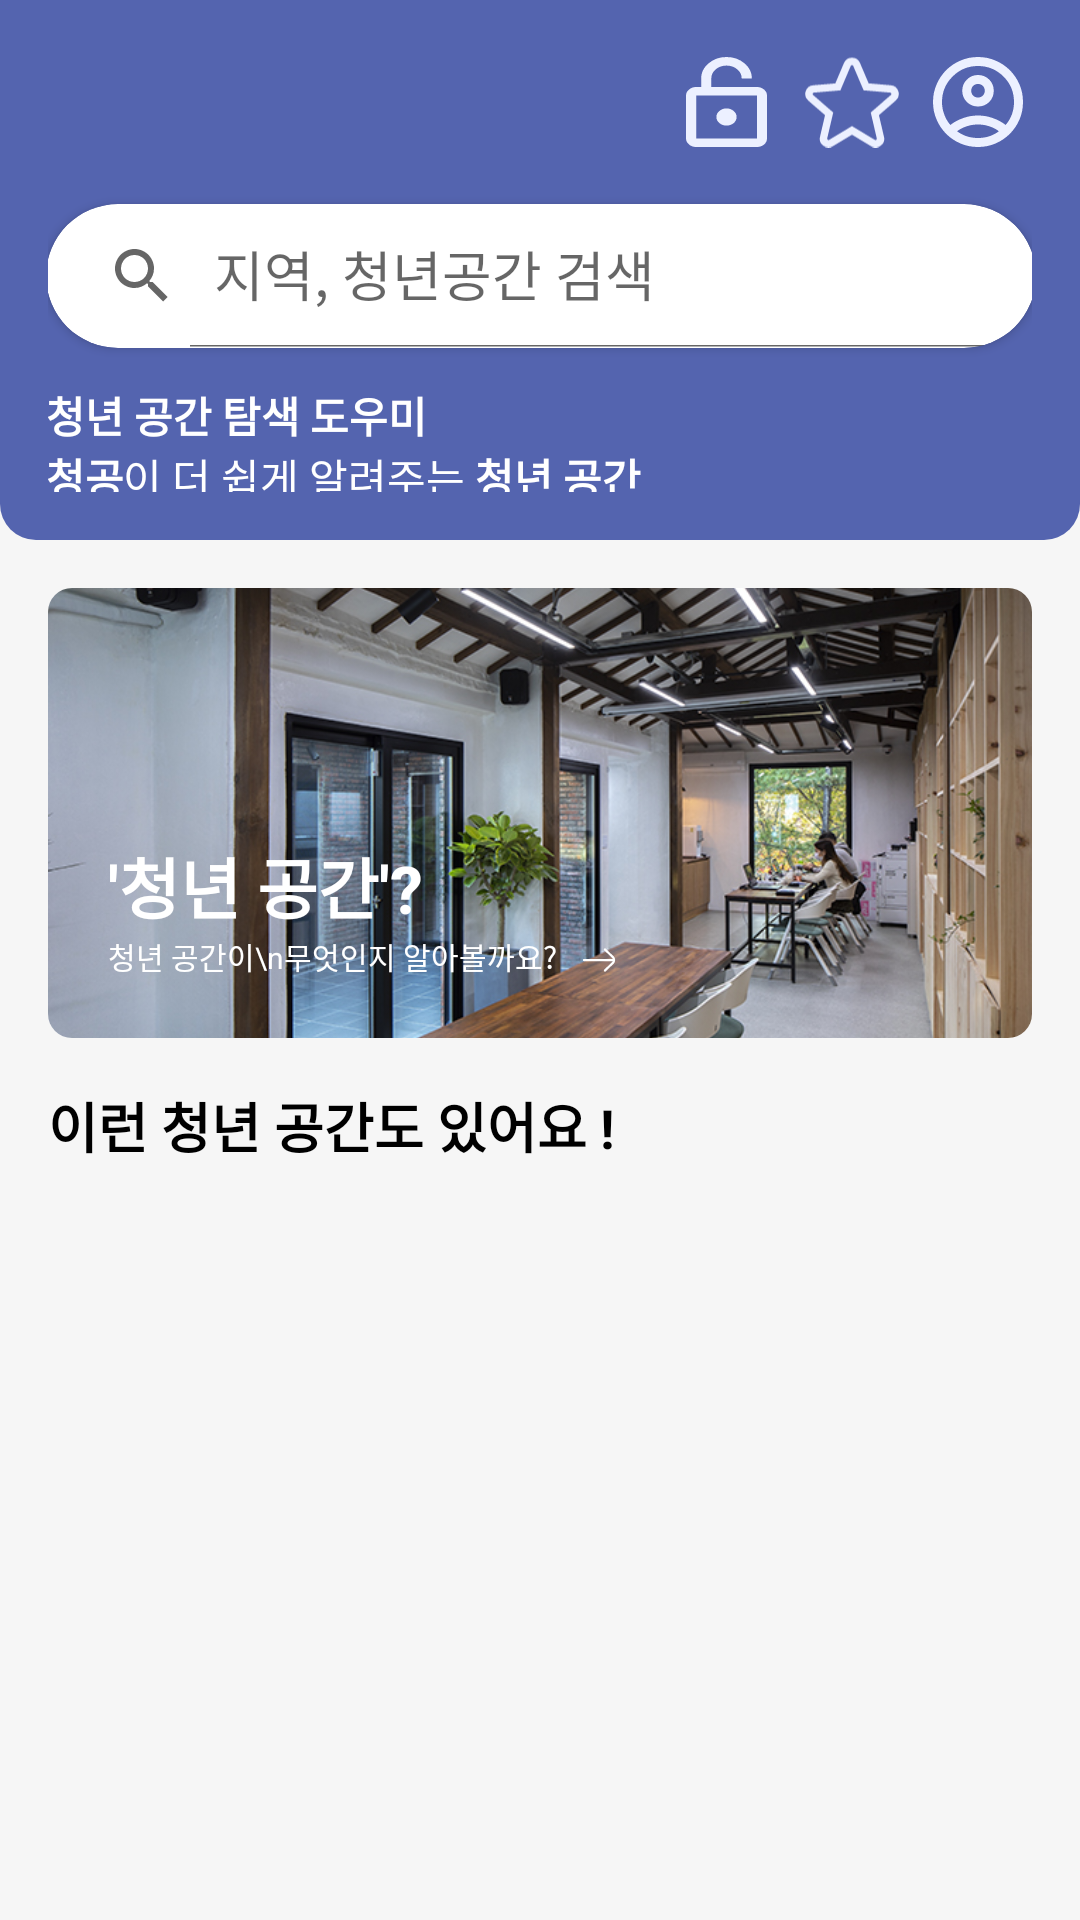

Where to tap for icons on this 1080x1920 app screen, as point (x, y):
authentication: point (726, 102)
bookmark: point (852, 102)
user profile: point (978, 102)
